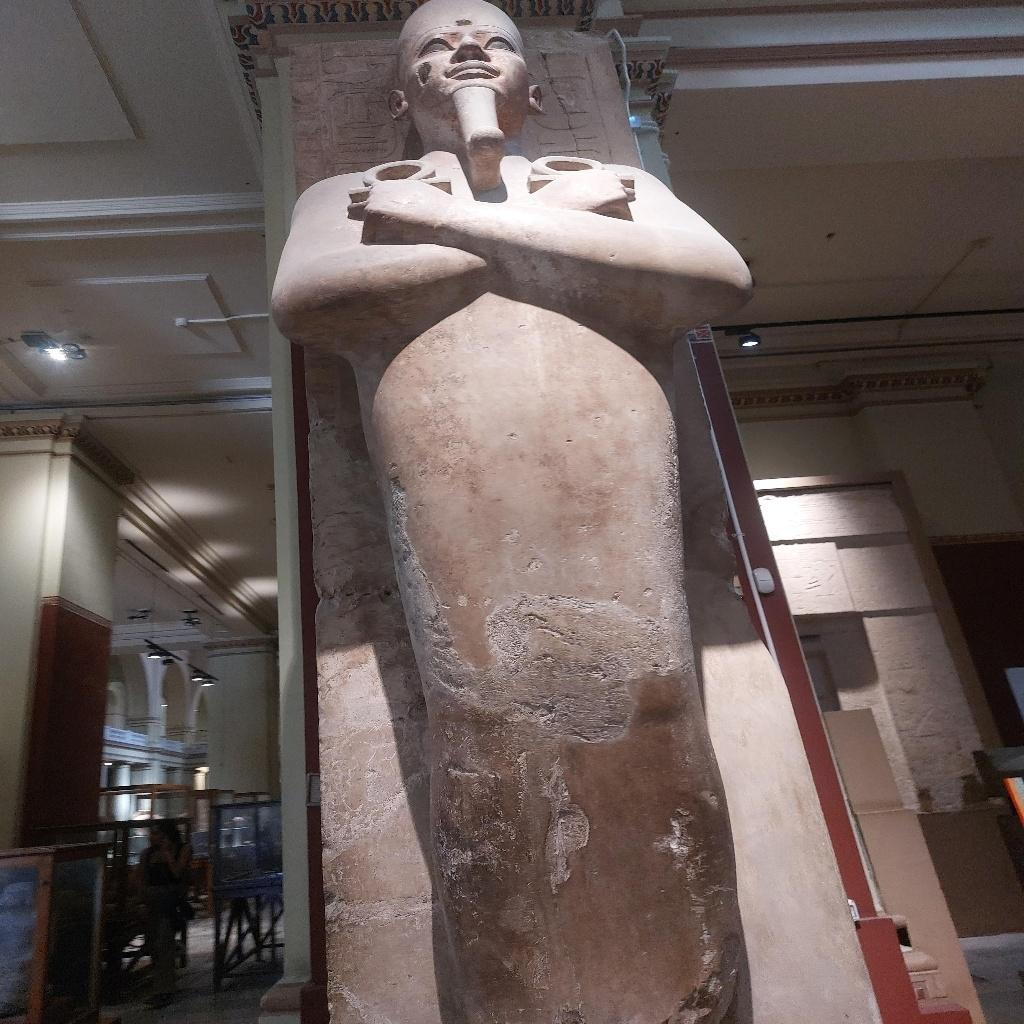Colossus of Senuseret I: (266, 4, 772, 1020)
